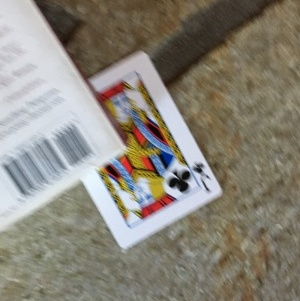card: (75, 49, 224, 252)
